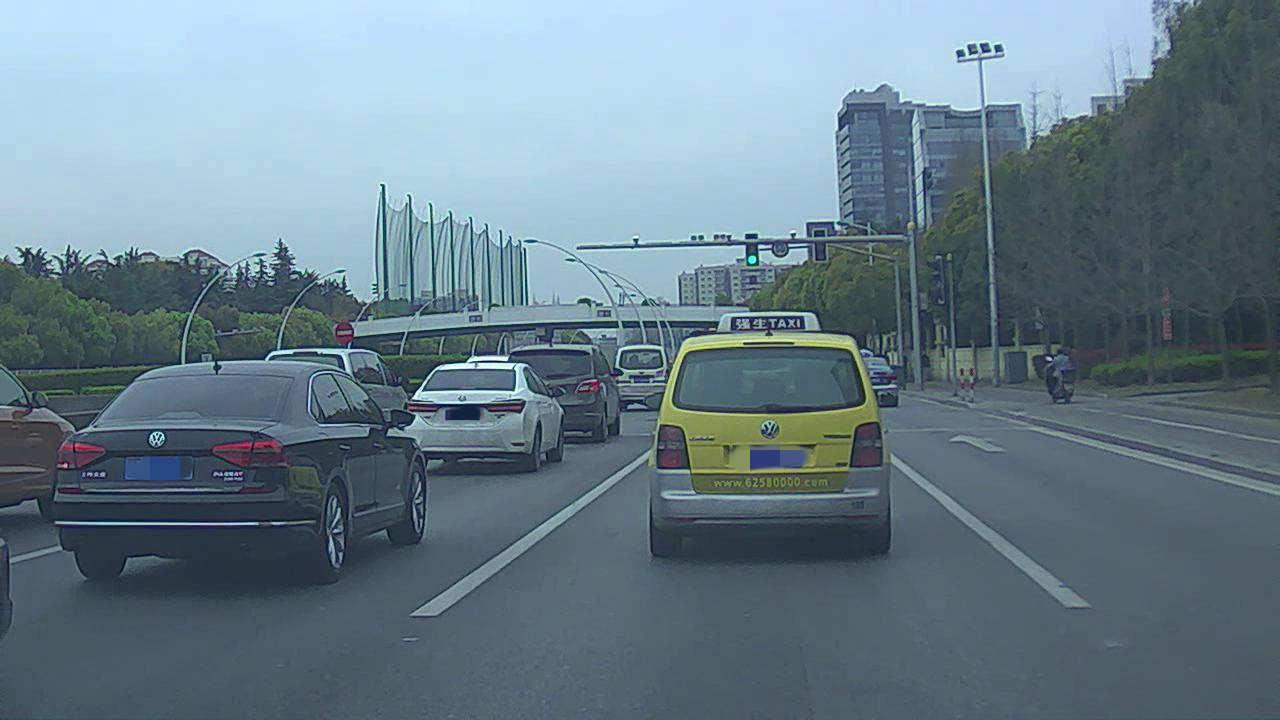traffic_light: (813, 226, 827, 264), (748, 232, 762, 267)
